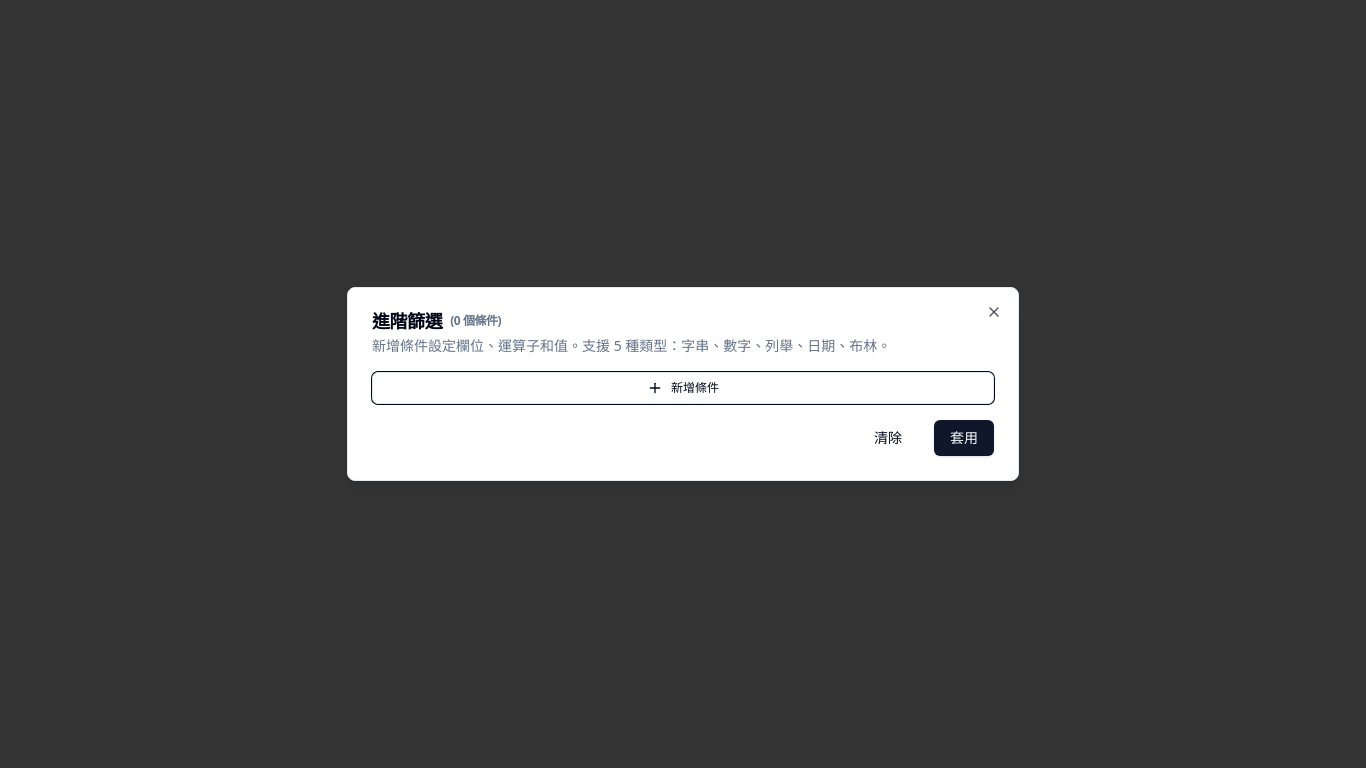
Sprint D2 — AdvancedFilterDialog › 點「新增條件」→ 加一個 row，可選 field + operator
This screenshot has width=1366, height=768.
Click the button with test id "add-filter-button" at [683, 388], box [372,372,994,404]
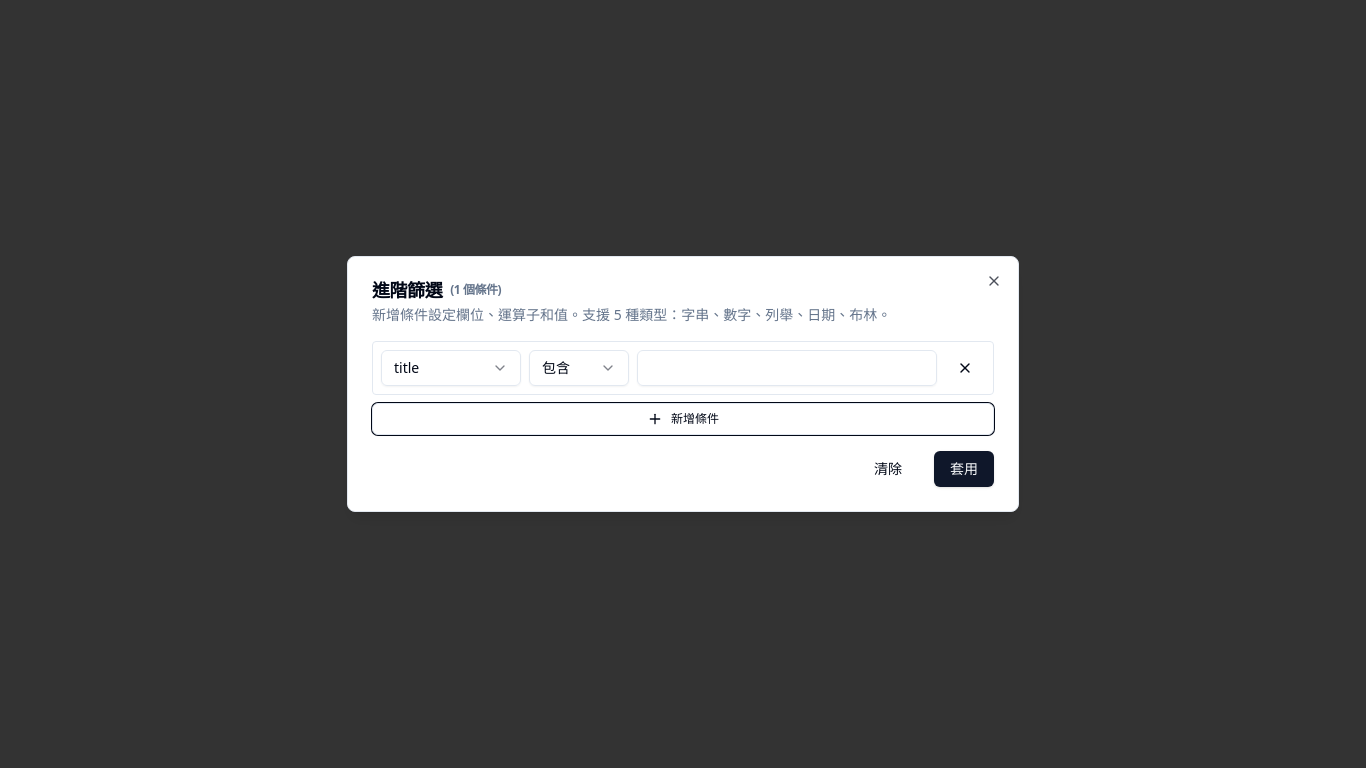
Check: the number of elements with test id "filter-row" is 1, box [372,341,994,395]
Check: the dropdown with test id "field-select" is shown, box [381,350,521,386]
